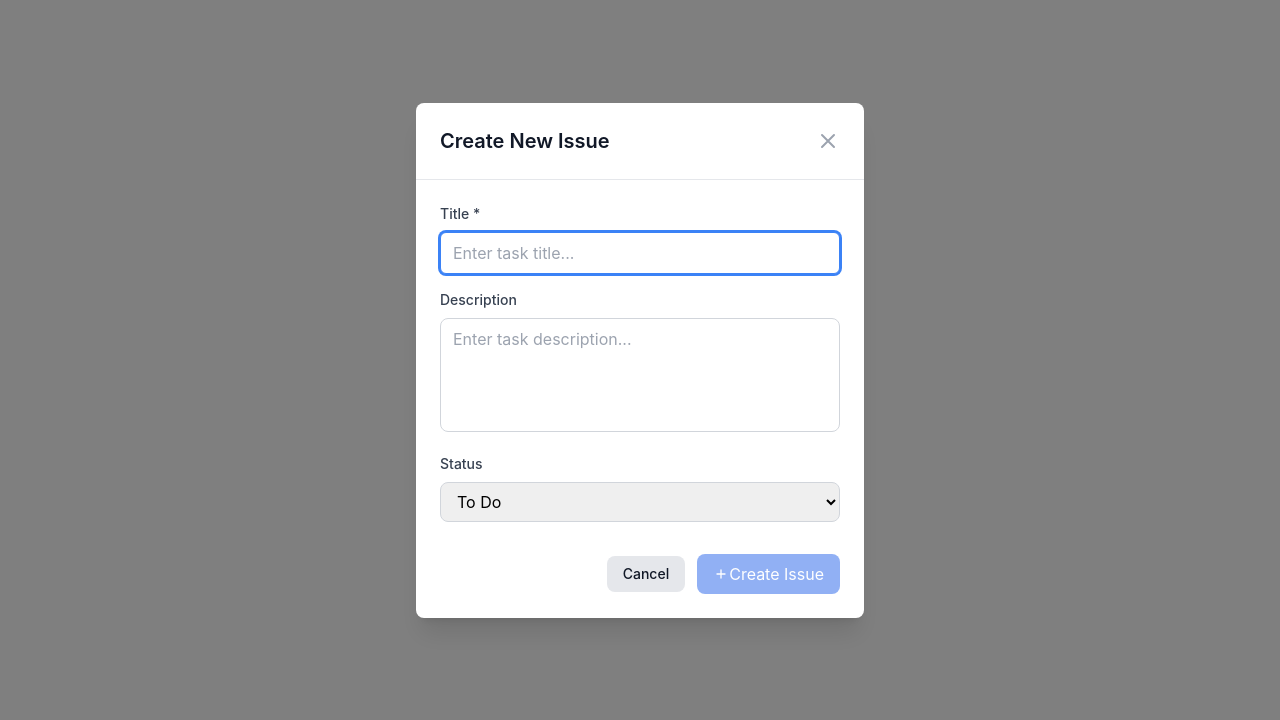
TaskModal Component › should show loading state when submitting
The image size is (1280, 720).
Type "Test Title" into the field labelled "Title *" at (640, 252), box [440, 232, 840, 274]
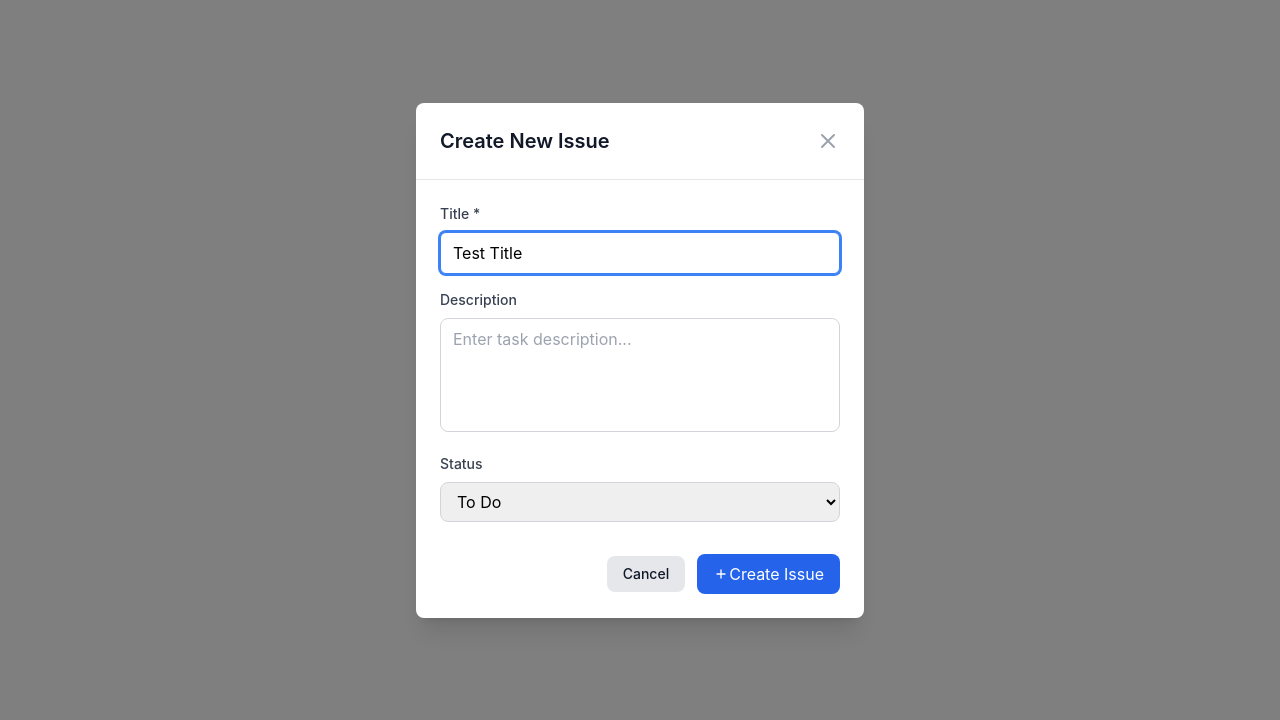
Click the button "Create Issue" at (769, 574), box [697, 554, 840, 594]
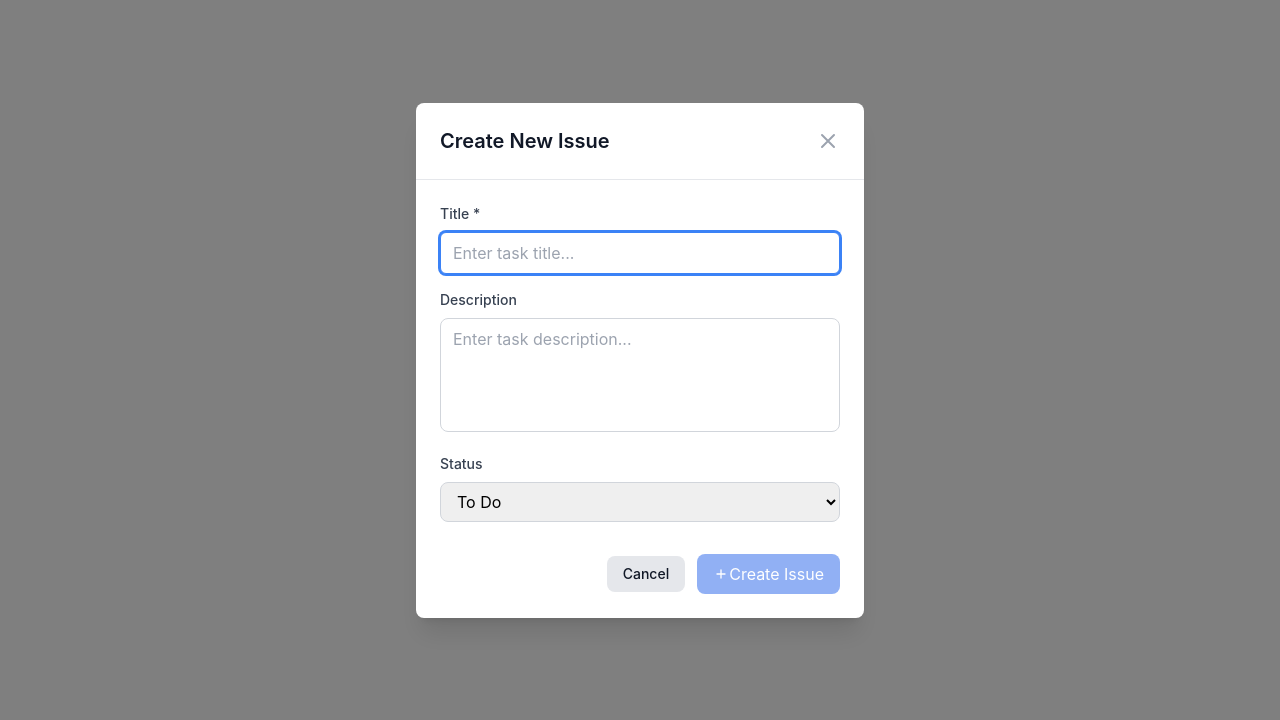
Expected: the button "Creating..." is disabled, [697, 554, 840, 594]
